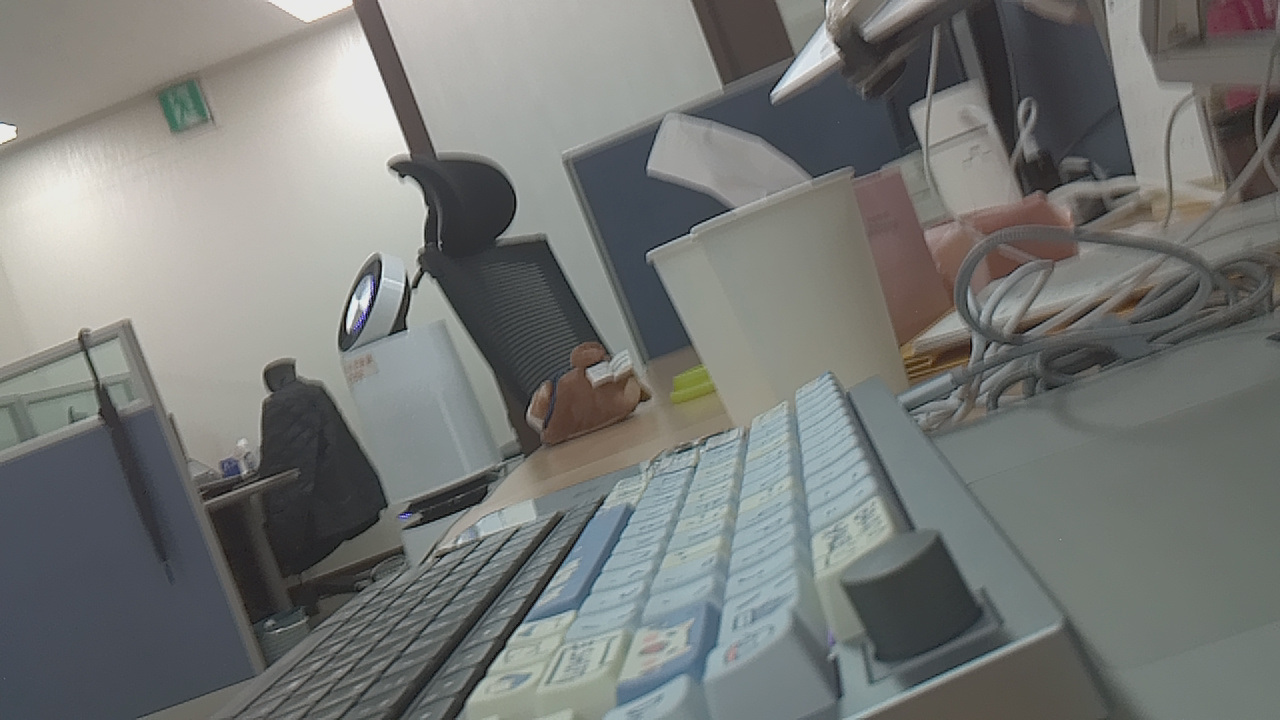cuteDog: (502, 322, 665, 448)
